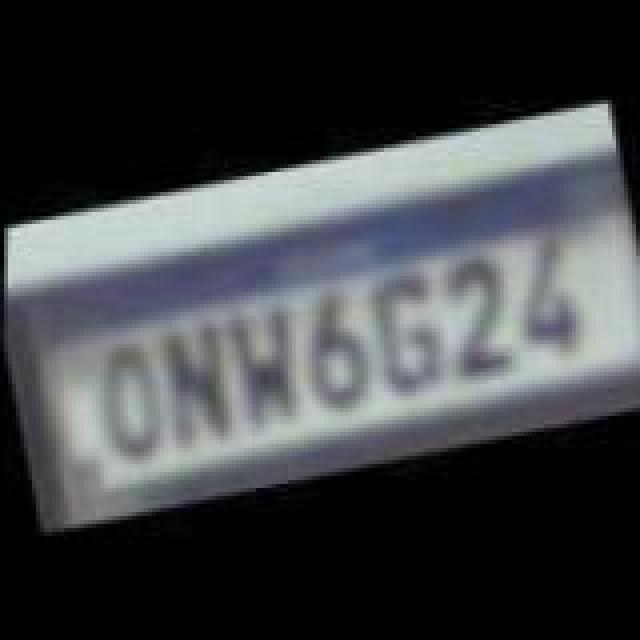2: (428, 244, 520, 380)
4: (494, 228, 590, 368)
6: (284, 274, 384, 414)
G: (352, 260, 452, 400)
N: (148, 310, 236, 446)
O: (80, 336, 176, 464)
W: (214, 292, 314, 432)
